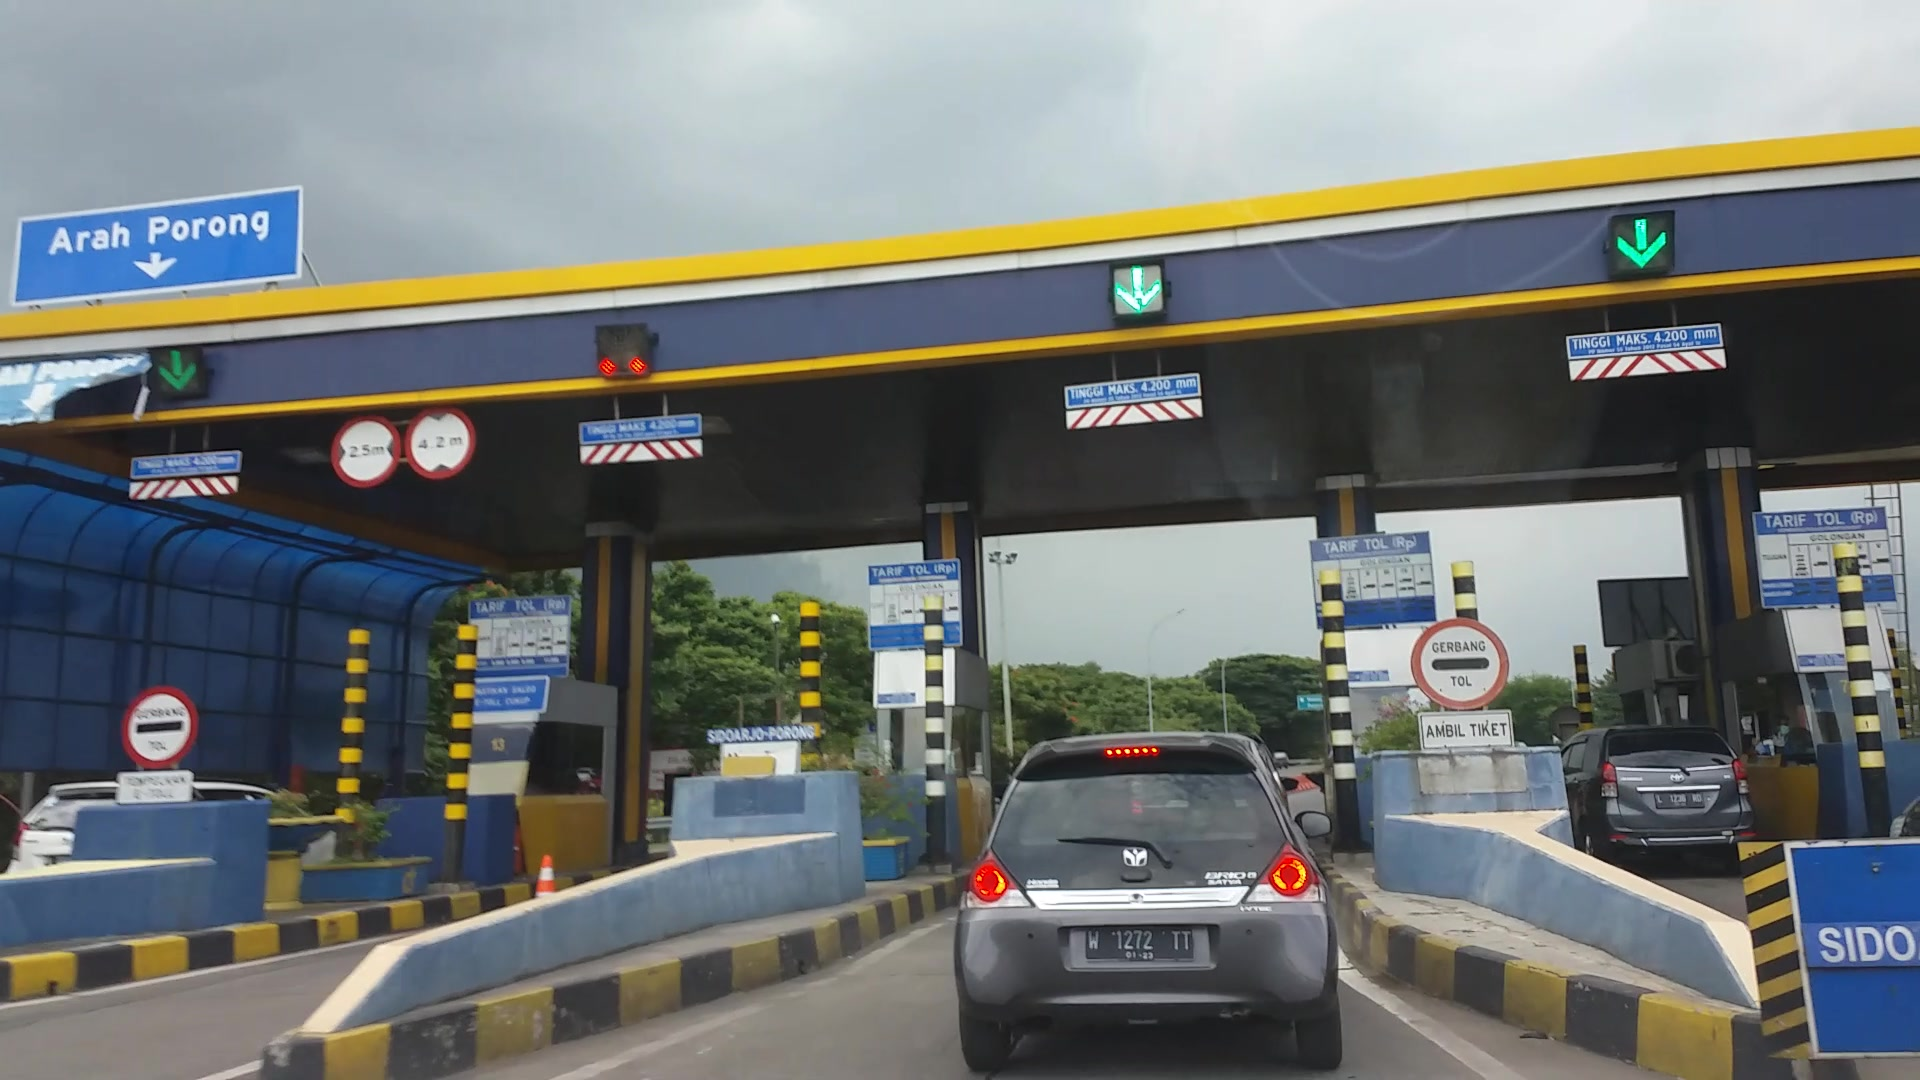plate_positive: (1085, 927, 1193, 961)
